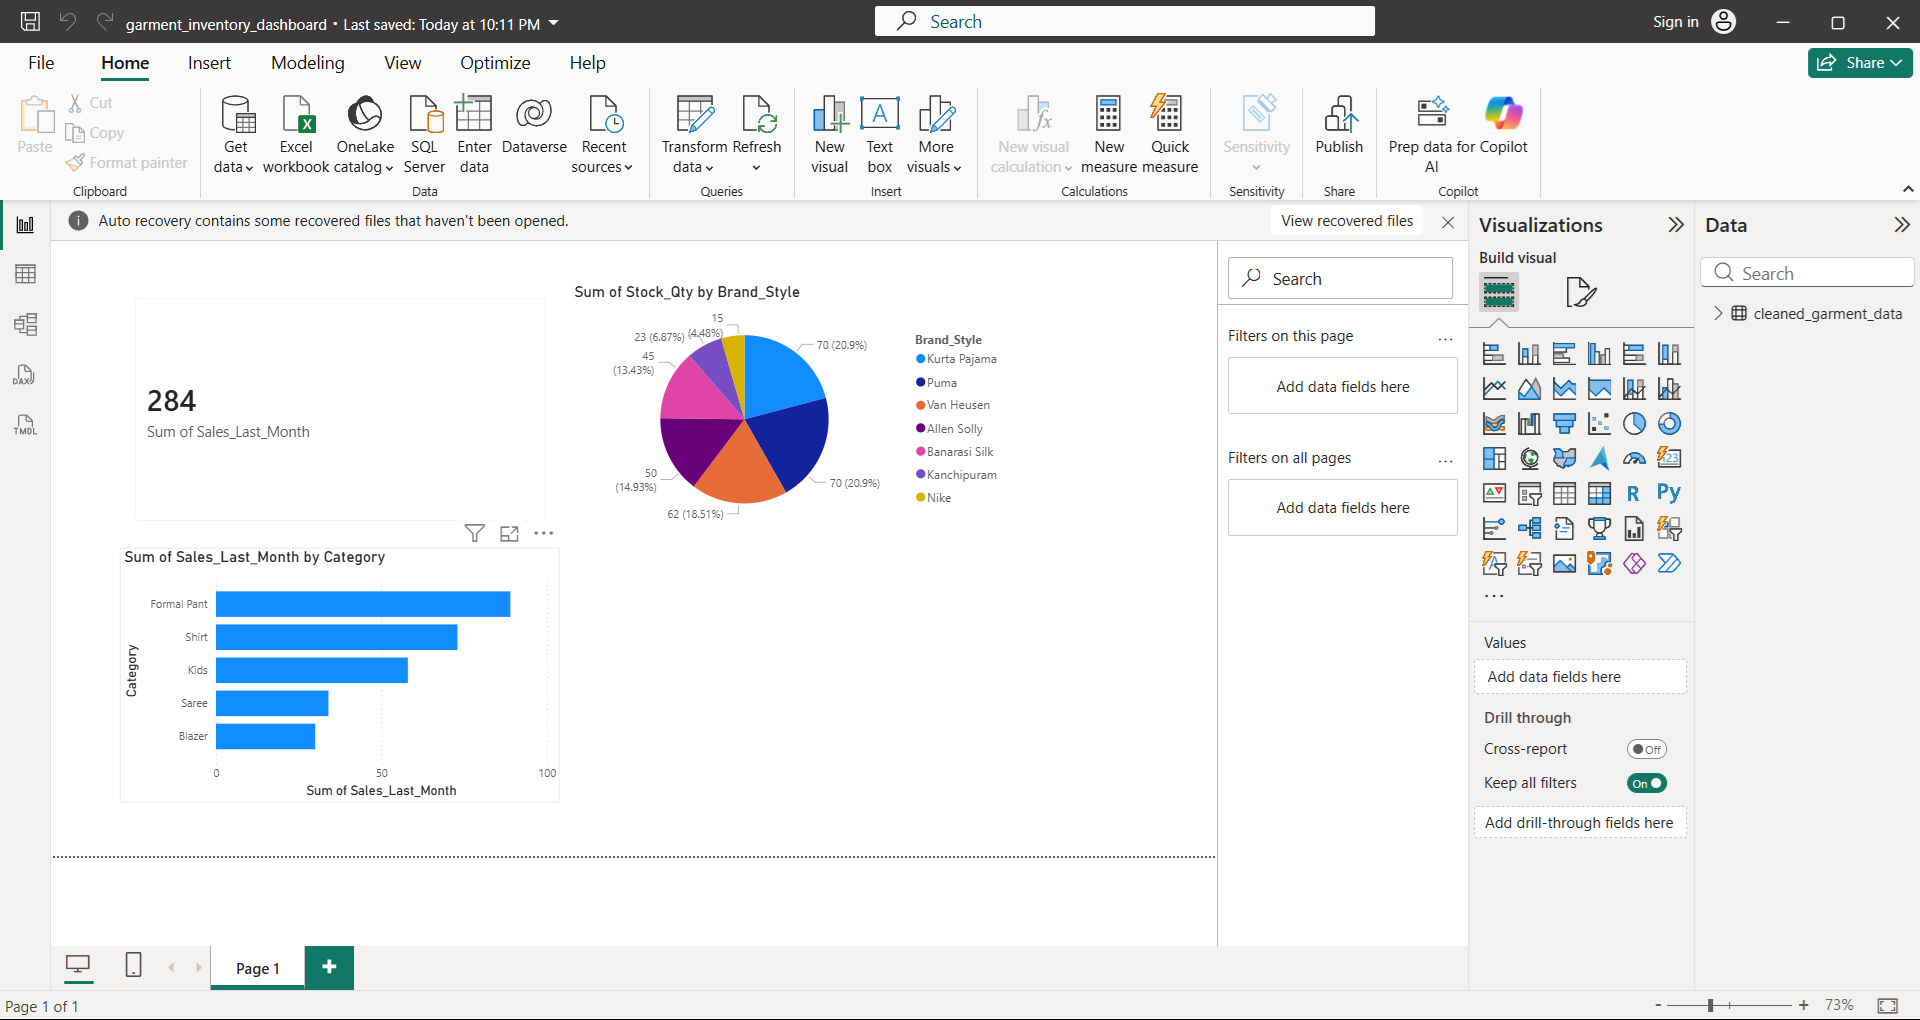

What the dashboard file says about the page in this screenshot:
{"tool":"powerbi","page":{"name":"Page 1","canvas":[1280,720],"ordinal":0},"visuals":[{"type":"cardVisual","fields":{"Data":["Sum(cleaned_garment_data.Sales_Last_Month)"]},"box":[75.5,90.6,484.4,279.9],"z":0},{"type":"clusteredBarChart","fields":{"Category":["cleaned_garment_data.Category"],"Y":["Sum(cleaned_garment_data.Sales_Last_Month)"]},"box":[75,381,484,280],"z":1},{"type":"pieChart","fields":{"Category":["cleaned_garment_data.Brand_Style"],"Y":["Sum(cleaned_garment_data.Stock_Qty)"]},"box":[569,91,484,280],"z":2}]}

Visuals, with their boxes on the page's 1280x720 design canvas (x1, y1, x2, y2). These are canvas units, not pixel positions in the 1920x1020 screenshot, which may show the page scaled, cropped or inside an application window:
cardVisual - Sum(cleaned_garment_data.Sales_Last_Month): pyautogui.locateOnScreen(76, 91, 560, 370)
clusteredBarChart - cleaned_garment_data.Category x Sum(cleaned_garment_data.Sales_Last_Month): pyautogui.locateOnScreen(75, 381, 559, 661)
pieChart - cleaned_garment_data.Brand_Style x Sum(cleaned_garment_data.Stock_Qty): pyautogui.locateOnScreen(569, 91, 1053, 371)
